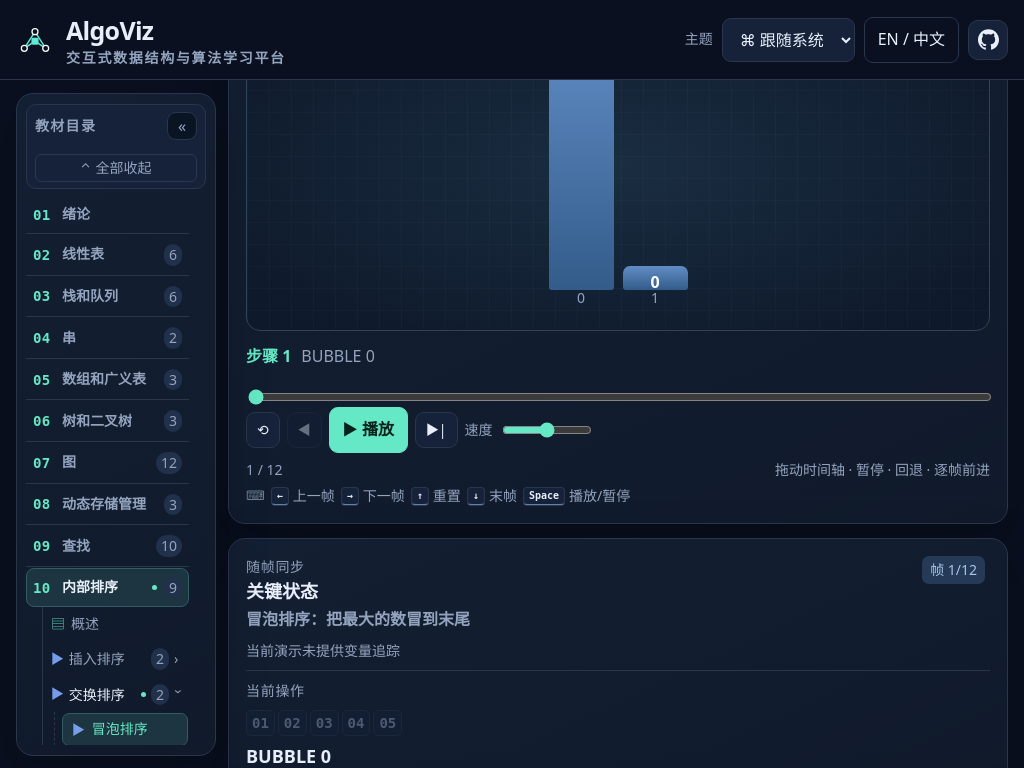
Test: Stage 3 playback fix — a new trace restarts the timeline › scenario B: switching algorithm while playing stops the old timer
The image size is (1024, 768).
Later steps or results of the test are not shown.
(page scrolled)
Expected: the text with test id "progress" reads "1 / 12", [246,460,282,479]
Click the button with test id "play-btn": [368, 430] box [329,407,408,453]
Wait 1200 ms
(page scrolled)
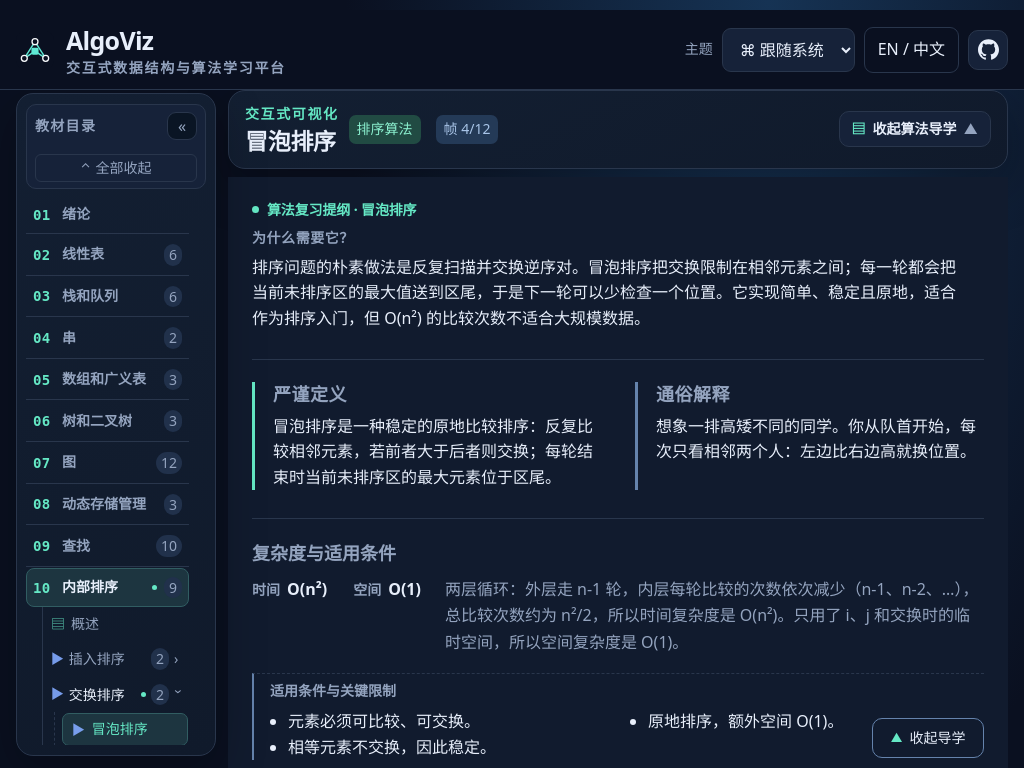
Now the text with test id "progress" no longer shows "1 / 12"
